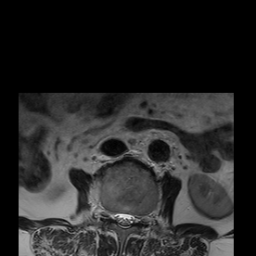CCS_normal: (121, 205, 127, 235)
LFS_normal: (135, 205, 143, 230)
LLS_normal: (127, 206, 135, 230)
RFS_normal: (106, 201, 114, 227)
RLS_normal: (114, 205, 121, 229)
